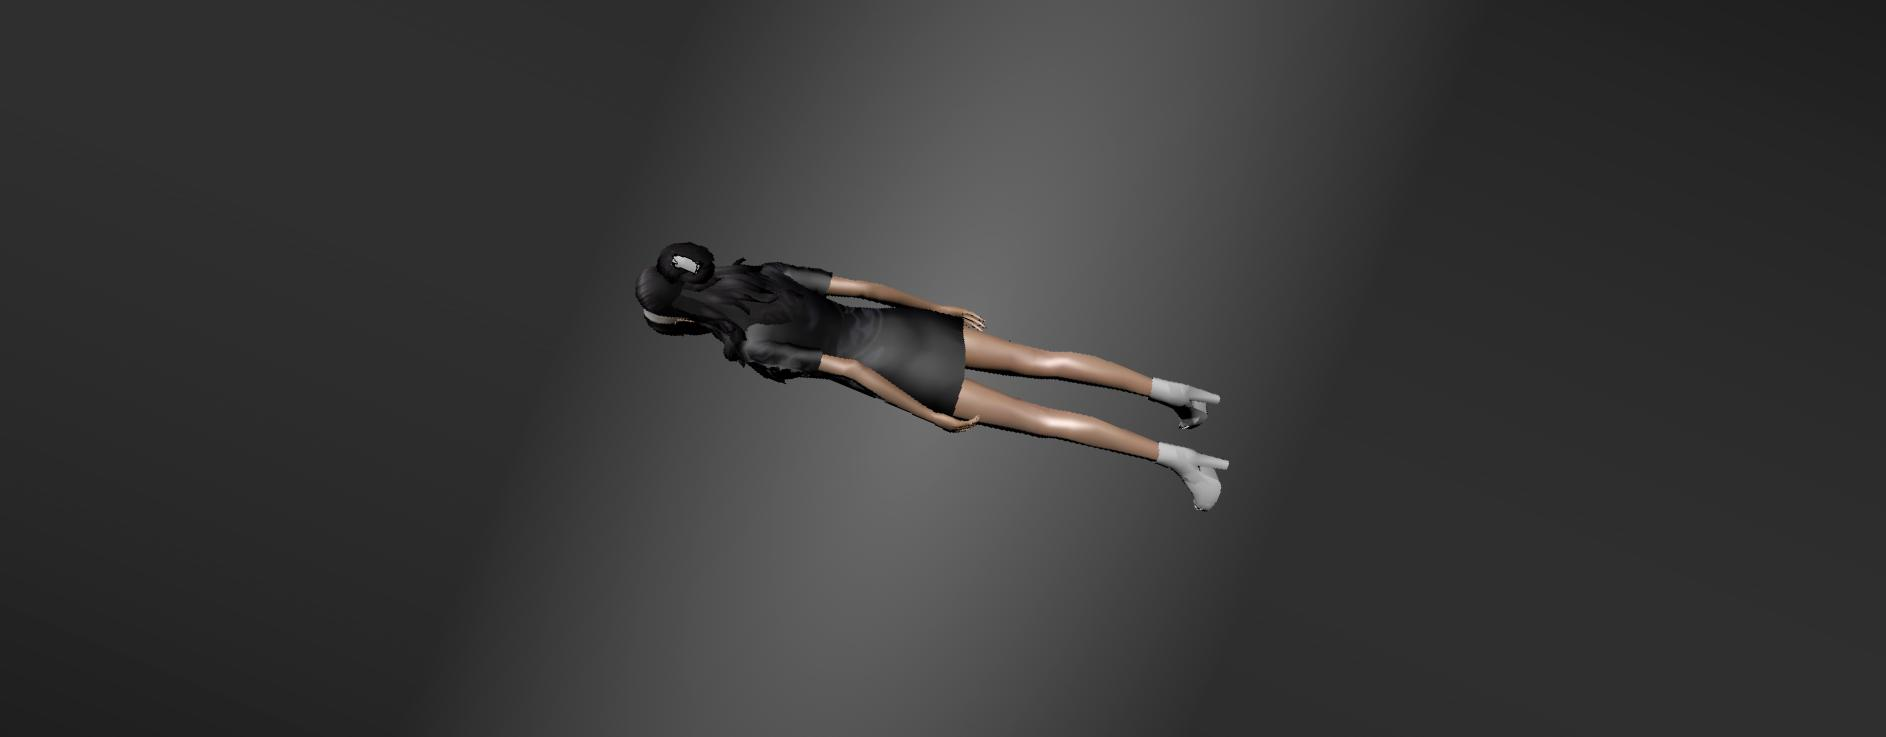clip: (674, 256, 704, 277)
